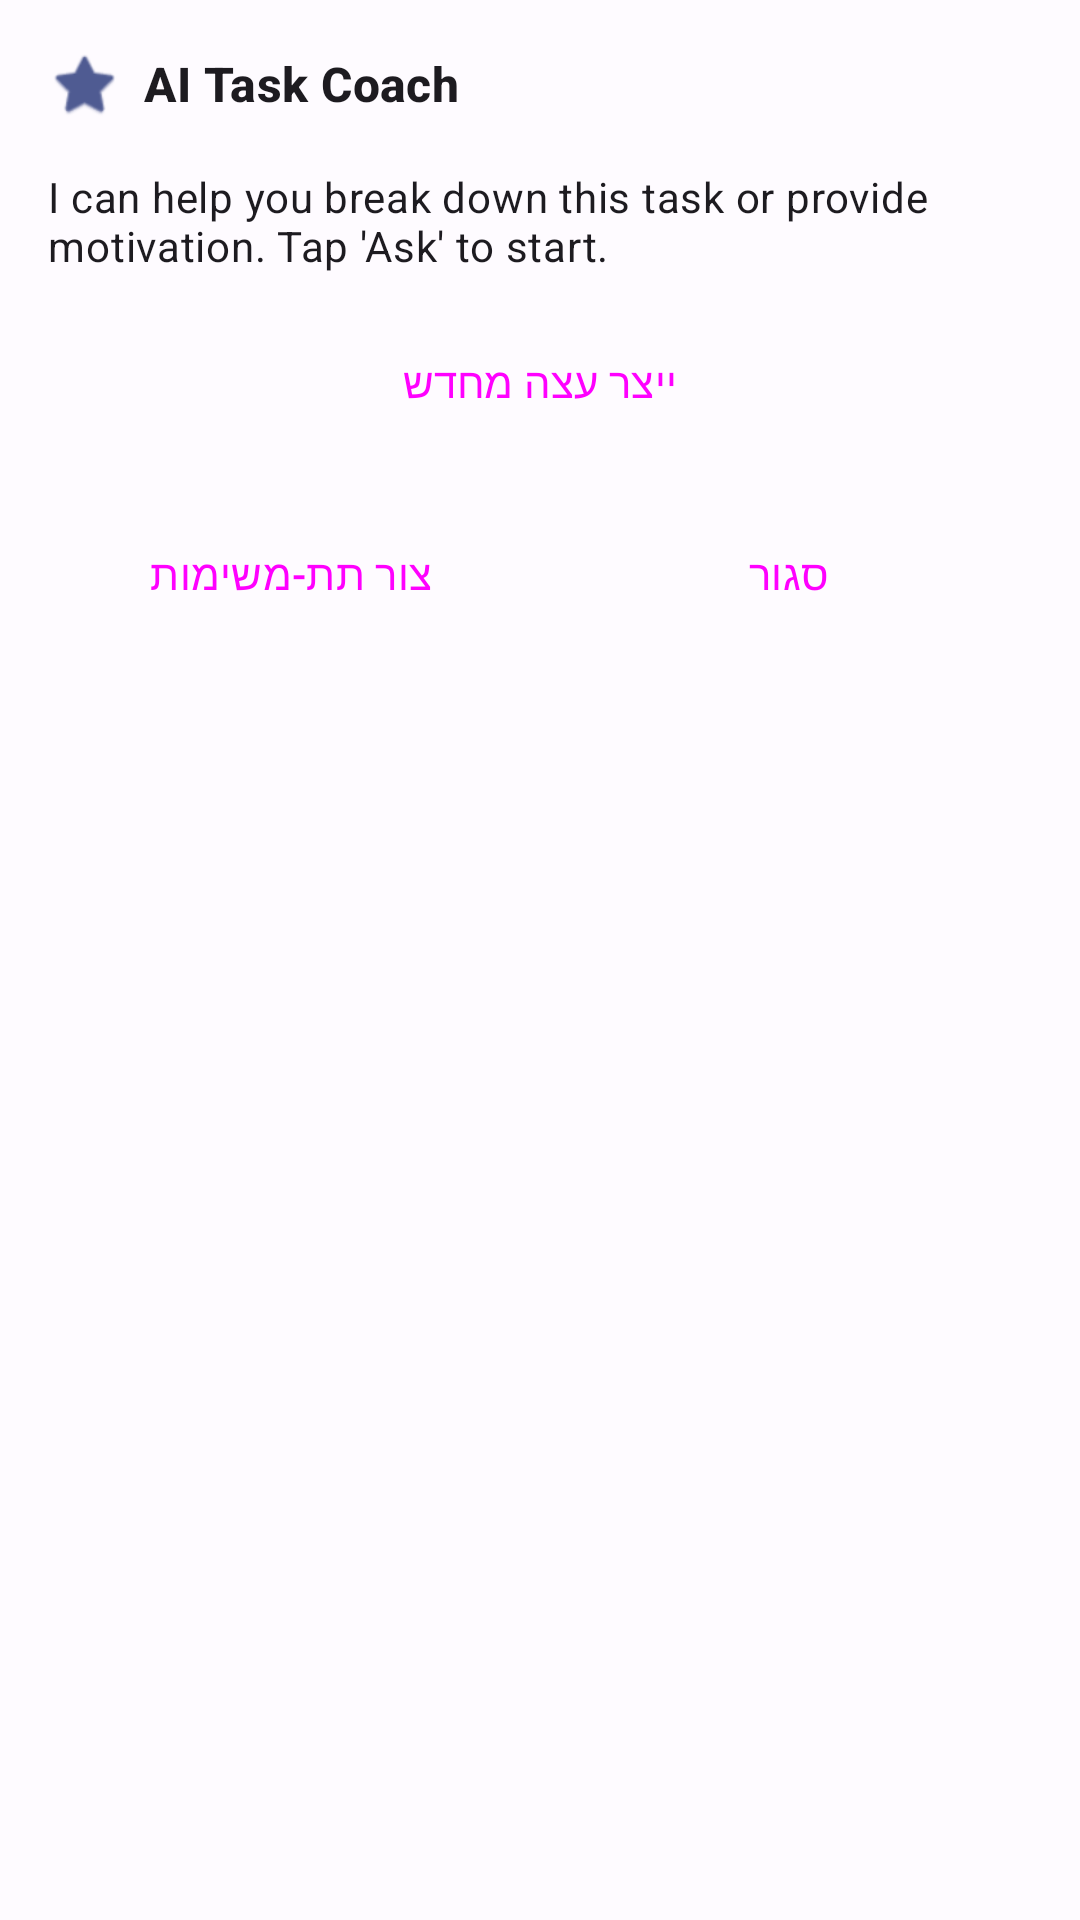

Named icons in this screenshot (1080*1920) and their centers, (x=x, y=y):
star on: (x=85, y=84)
